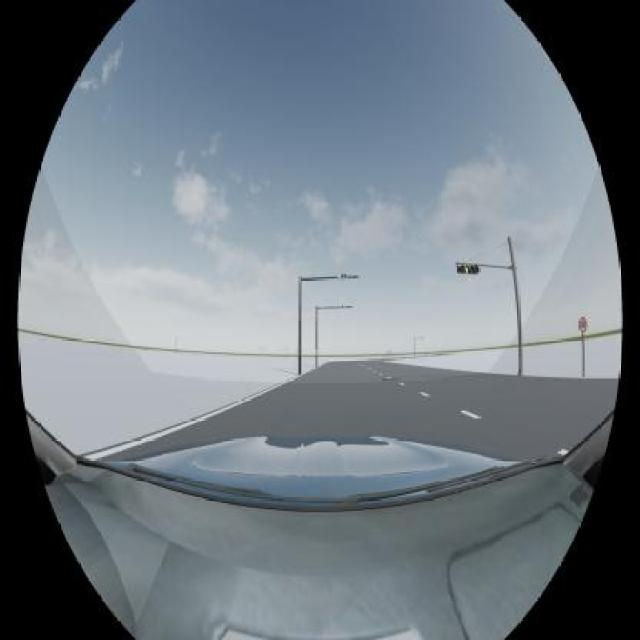forb_speed_over_100: (579, 317, 588, 332)
